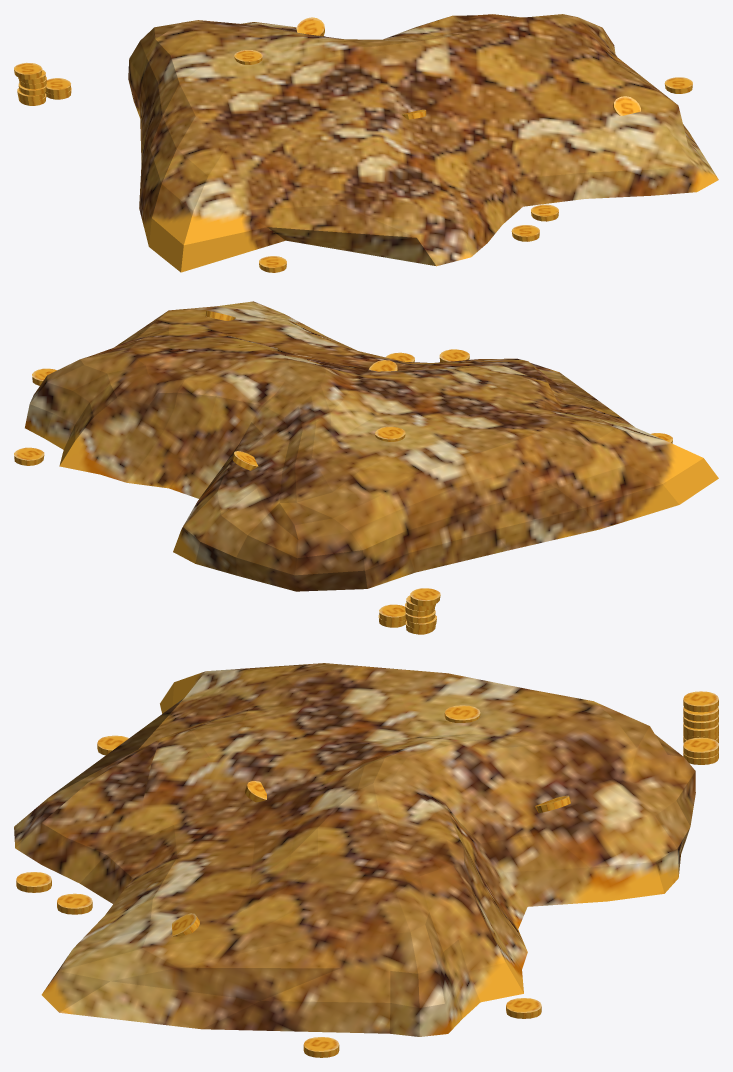
File: Gold_local_2.obj
The picture shows the model from 3 angles, top to bottom: view 1: azimuth 30°, elevation 25°; view 2: azimuth 150°, elevation 25°; view 3: azimuth 270°, elevation 25°; orthographic projection. The views are drawn at different scales.
Parts seen in each view (by area): view 1: Cube; view 2: Cube; view 3: Cube.
Part boxes in pixels (<box>): Cube: <box>14,14,718,272</box>; Cube: <box>14,301,718,634</box>; Cube: <box>14,663,718,1057</box>.
Size of the model in its own units: 4.61 by 0.7141 by 3.86.
Materials: 1 (1 with a texture image).
